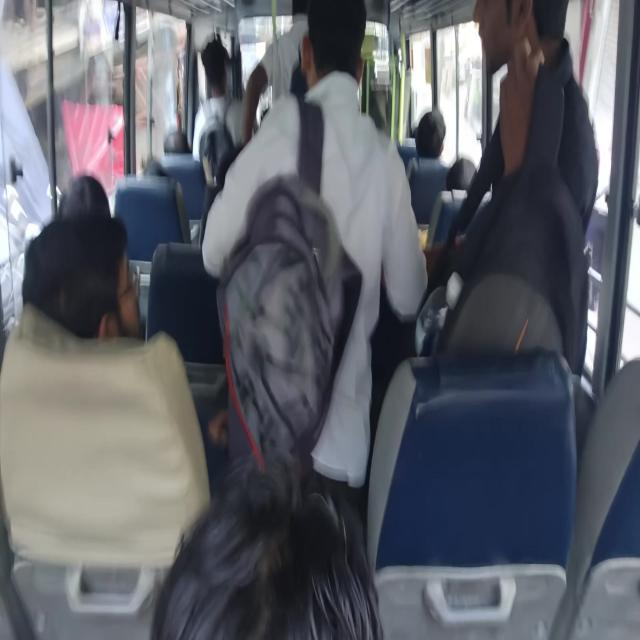person: (169, 465, 391, 640), (32, 202, 167, 390), (469, 5, 583, 153), (306, 2, 366, 101), (203, 160, 242, 232), (202, 49, 250, 101), (155, 114, 205, 162), (64, 168, 116, 214), (418, 110, 452, 160), (450, 147, 471, 214), (282, 8, 312, 47), (144, 154, 166, 192)
